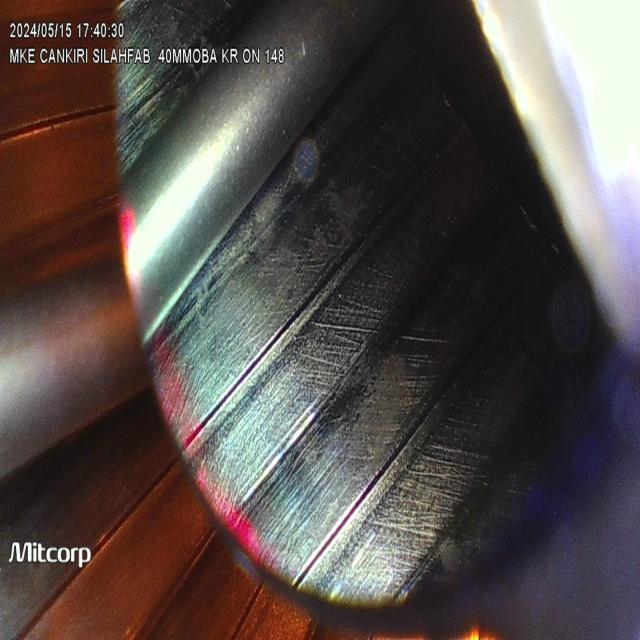hata_8.2: (318, 340, 444, 476), (267, 202, 408, 318)
